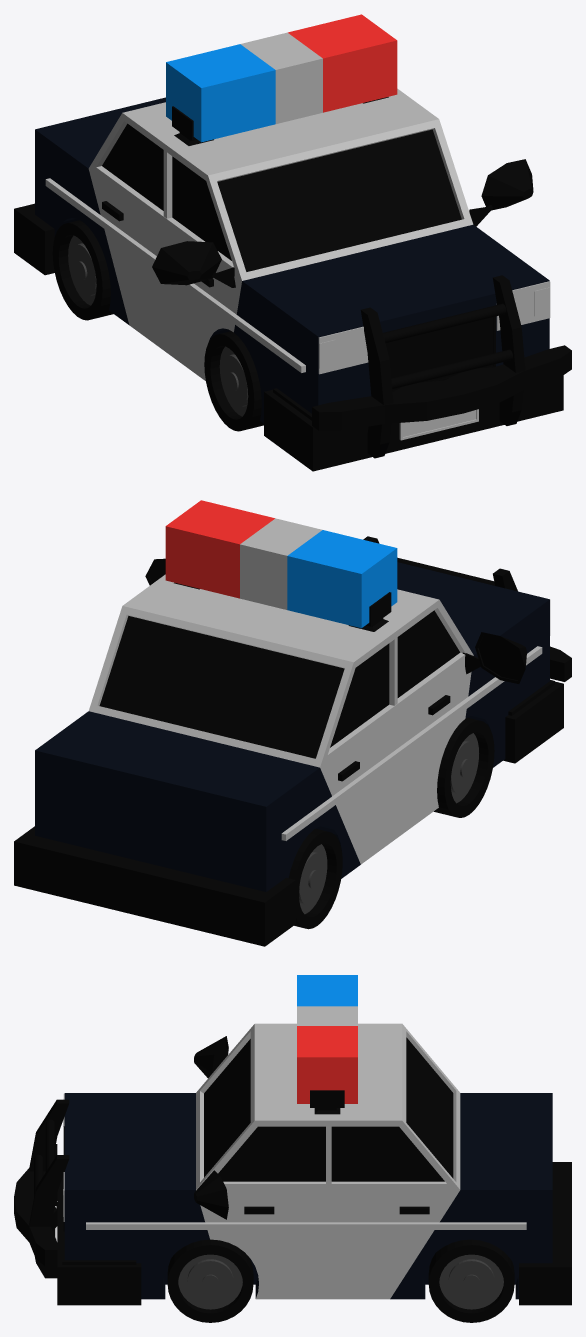
The model's file is PoliceCar.fbx.
3 renders of one model, top to bottom at view 1: azimuth 30°, elevation 25°; view 2: azimuth 150°, elevation 25°; view 3: azimuth 270°, elevation 25°, orthographic. The views are drawn at different scales.
Parts seen in each view (by area): view 1: PoliceCar; view 2: PoliceCar; view 3: PoliceCar.
Boxes of the visible parts, left/top/right/bottom form: PoliceCar: left=14, top=14, right=571, bottom=471; PoliceCar: left=14, top=500, right=571, bottom=946; PoliceCar: left=14, top=975, right=571, bottom=1322.
Bounding box in the file's own units: 424 × 317 × 626.
Materials: 1 (1 with a texture image).
